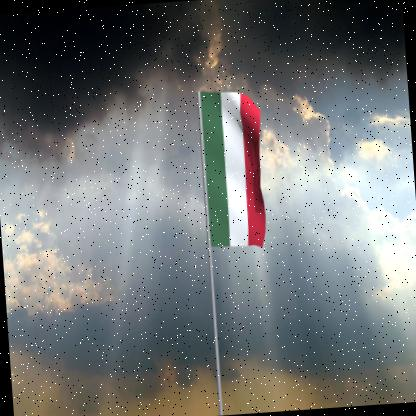hu: (201, 89, 271, 253)
